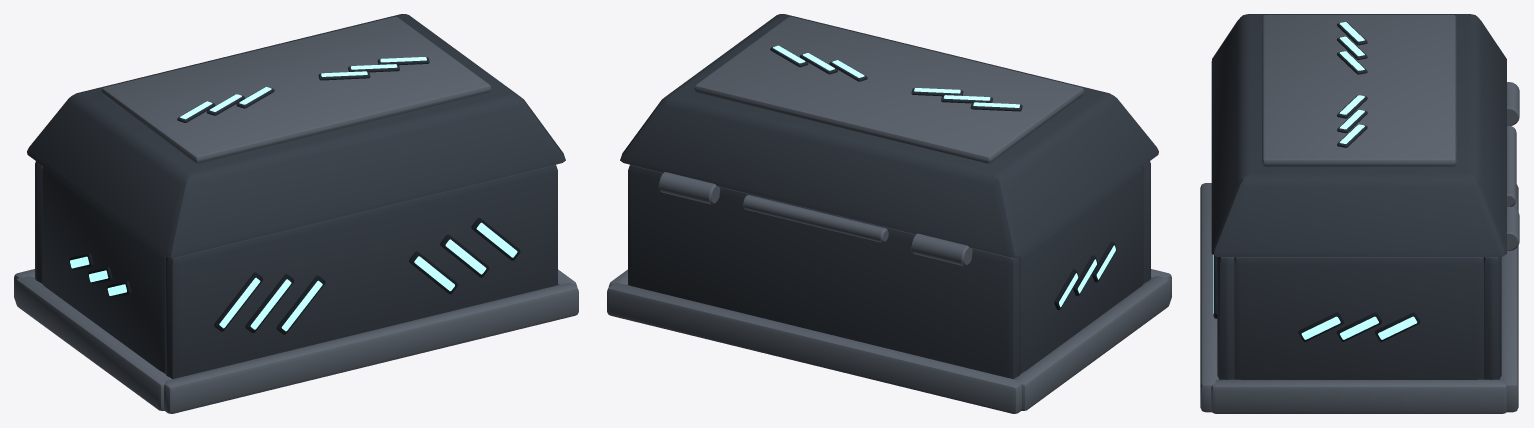
The model's file is AlienChest_POC_V1.fbx.
The picture shows the model from 3 angles, left to right: view 1: azimuth 30°, elevation 25°; view 2: azimuth 150°, elevation 25°; view 3: azimuth 270°, elevation 25°; orthographic projection.
Visible parts, largest first — view 1: Lid_SlopedShell, Base_Wall_Front, Lid_TopPlate, Trim_Front, Base_Wall_Left, Trim_Left, Base_Wall_Back; view 2: Lid_SlopedShell, Base_Wall_Back, Lid_TopPlate, Trim_Back, Base_Wall_Left, Trim_Left, Hinge_Pin_Center, Hinge_Barrel_R, Hinge_Barrel_L, Base_Wall_Front; view 3: Lid_SlopedShell, Base_Wall_Right, Lid_TopPlate, Trim_Right, Trim_Front, Trim_Back, Base_Wall_Back, Base_Wall_Front, Hinge_Pin_Center, Hinge_Barrel_R, Hinge_Barrel_L, GLOW_Rarity_Side_R_03 (+6 smaller).
Boxes of the visible parts, x1,y1,x2,y2 form: Lid_SlopedShell: (27,14,565,257); Base_Wall_Front: (165,164,557,378); Lid_TopPlate: (101,17,491,163); Trim_Front: (164,282,578,413); Base_Wall_Left: (42,166,166,373); Trim_Left: (15,276,171,410); Base_Wall_Back: (35,161,43,283); Lid_SlopedShell: (620,14,1158,257); Base_Wall_Back: (628,164,1020,378); Lid_TopPlate: (694,17,1084,163); Trim_Back: (607,282,1021,413); Base_Wall_Left: (1019,166,1143,373); Trim_Left: (1014,276,1170,410); Hinge_Pin_Center: (742,195,888,242); Hinge_Barrel_R: (658,172,720,204); Hinge_Barrel_L: (911,233,972,266); Base_Wall_Front: (1142,161,1150,283); Lid_SlopedShell: (1211,14,1506,256); Base_Wall_Right: (1234,257,1483,379); Lid_TopPlate: (1262,15,1456,166); Trim_Right: (1211,379,1507,413); Trim_Front: (1200,183,1218,412); Trim_Back: (1499,184,1518,412); Base_Wall_Back: (1484,257,1501,379); Base_Wall_Front: (1217,257,1234,379); Hinge_Pin_Center: (1507,125,1516,206); Hinge_Barrel_R: (1507,206,1519,250); Hinge_Barrel_L: (1507,82,1519,125); GLOW_Rarity_Side_R_03: (1378,316,1417,339).
Bounding box in the file's own units: 1.34 × 0.697 × 0.8768.
